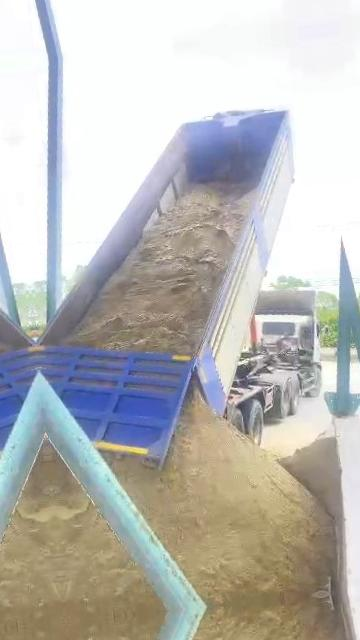sand: (112, 399, 335, 606), (63, 181, 255, 353), (49, 457, 163, 620), (279, 433, 340, 518)
